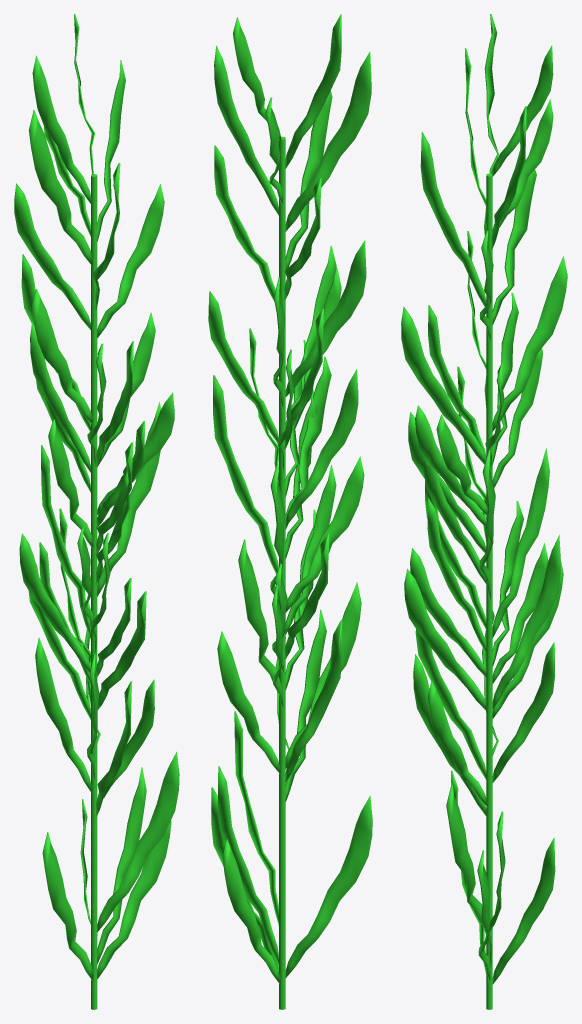
The model's file is kelp_3.fbx.
The picture shows the model from 3 angles, left to right: view 1: azimuth 30°, elevation 25°; view 2: azimuth 150°, elevation 25°; view 3: azimuth 270°, elevation 25°; orthographic projection. The views are drawn at different scales.
Visible parts, largest first — view 1: Stem; view 2: Stem; view 3: Stem.
Part boxes in pixels (bbox=[...]): Stem: bbox=[14, 14, 179, 1009]; Stem: bbox=[208, 14, 372, 1009]; Stem: bbox=[401, 14, 567, 1009].
Size of the model in its own units: 231 by 1454 by 227.
